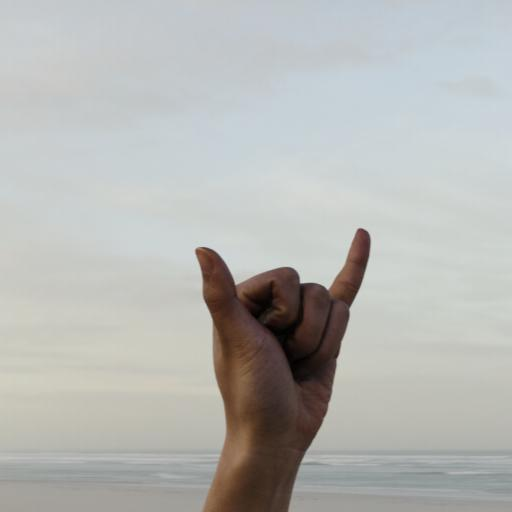Y: (192, 224, 376, 449)
